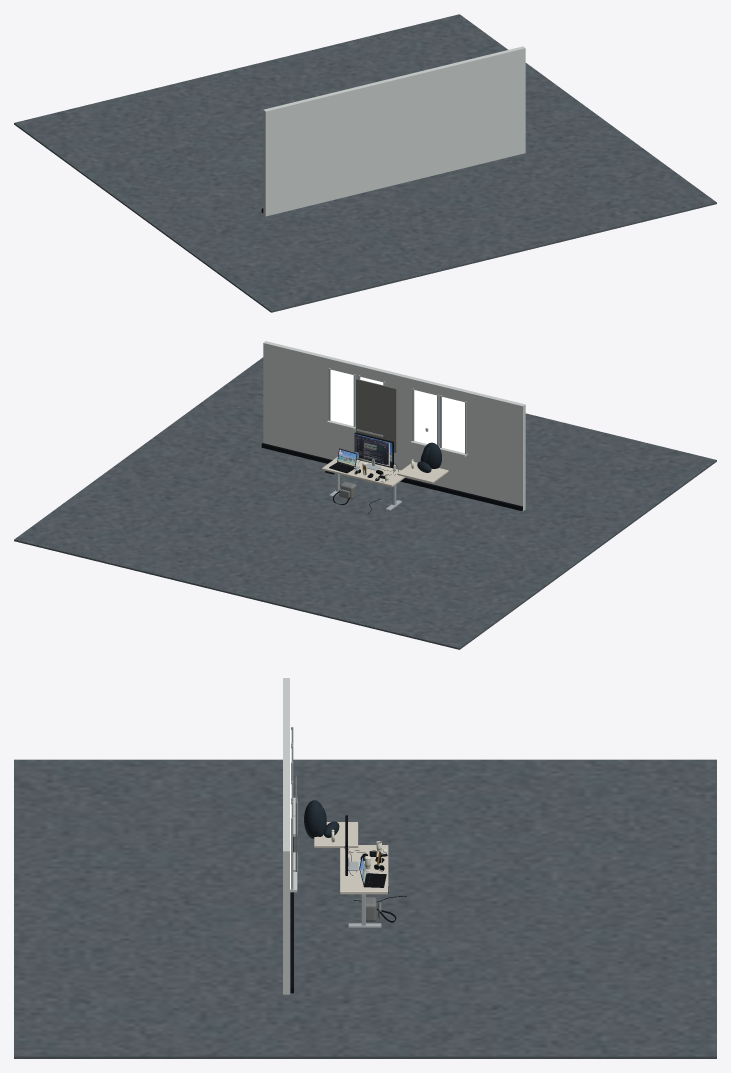
File: viga.glb
3 renders of one model, top to bottom at view 1: azimuth 30°, elevation 25°; view 2: azimuth 150°, elevation 25°; view 3: azimuth 270°, elevation 25°, orthographic. The views are drawn at different scales.
Visible parts, largest first — view 1: Carpet floor, Rear wall; view 2: Carpet floor, Rear wall, Roller blind, Window glass.003, Window glass, Window glass.001, Wall skirting, Monitor display, Desk top, Adjacent desk; view 3: Carpet floor, Rear wall, Desk top, Adjacent desk.
Boxes of the visible parts, x1,y1,x2,y2 form: Carpet floor: (14, 14, 716, 312); Rear wall: (263, 46, 525, 216); Carpet floor: (14, 357, 716, 649); Rear wall: (263, 341, 525, 510); Roller blind: (356, 379, 396, 452); Window glass.003: (330, 369, 353, 425); Window glass: (442, 397, 464, 452); Window glass.001: (414, 390, 436, 444); Wall skirting: (261, 443, 522, 510); Monitor display: (355, 434, 392, 467); Desk top: (322, 457, 405, 486); Adjacent desk: (397, 462, 448, 483); Carpet floor: (14, 759, 716, 1058); Rear wall: (283, 678, 289, 994); Desk top: (340, 845, 388, 894); Adjacent desk: (314, 822, 358, 847).
Bounding box in the file's own units: 12 × 2.74 × 12.
Materials: 17 (4 with a texture image).
